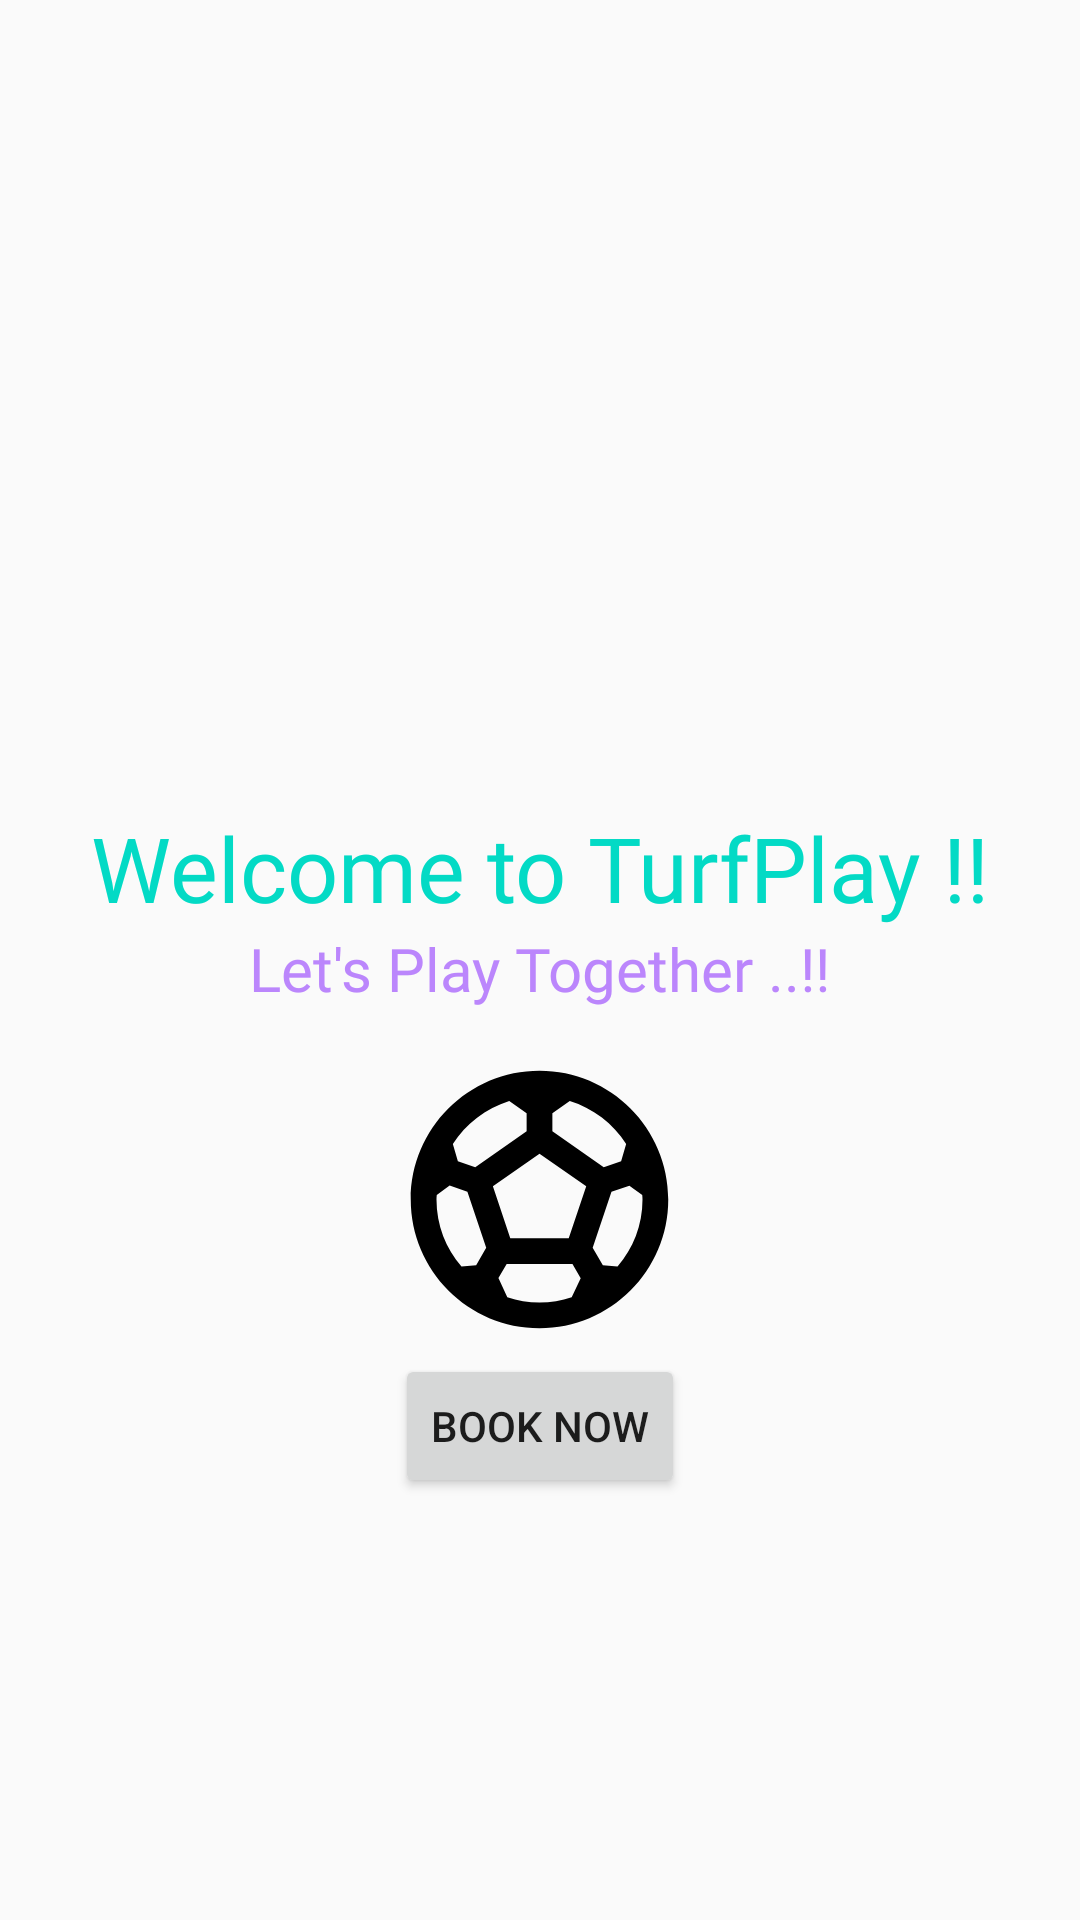

Icons on this 1080*1920 Android screen, each with the point to tap as point (x, y):
sports soccer: point (539, 1199)
